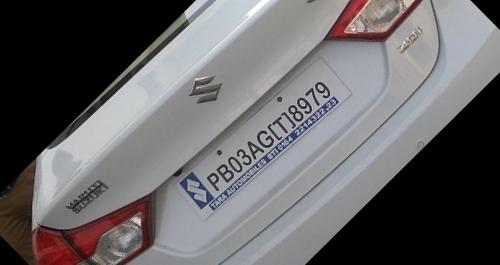plate: (159, 34, 366, 239)
